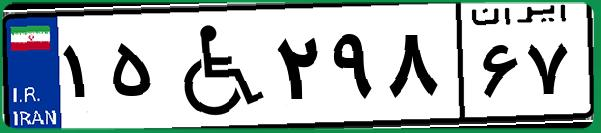1: (57, 26, 110, 100)
2: (270, 28, 330, 110)
5: (110, 28, 158, 98)
6: (475, 38, 525, 113)
7: (525, 38, 570, 115)
8: (385, 28, 445, 110)
9: (330, 28, 385, 110)
ژ (معلولین و جانبازان): (158, 12, 270, 120)
